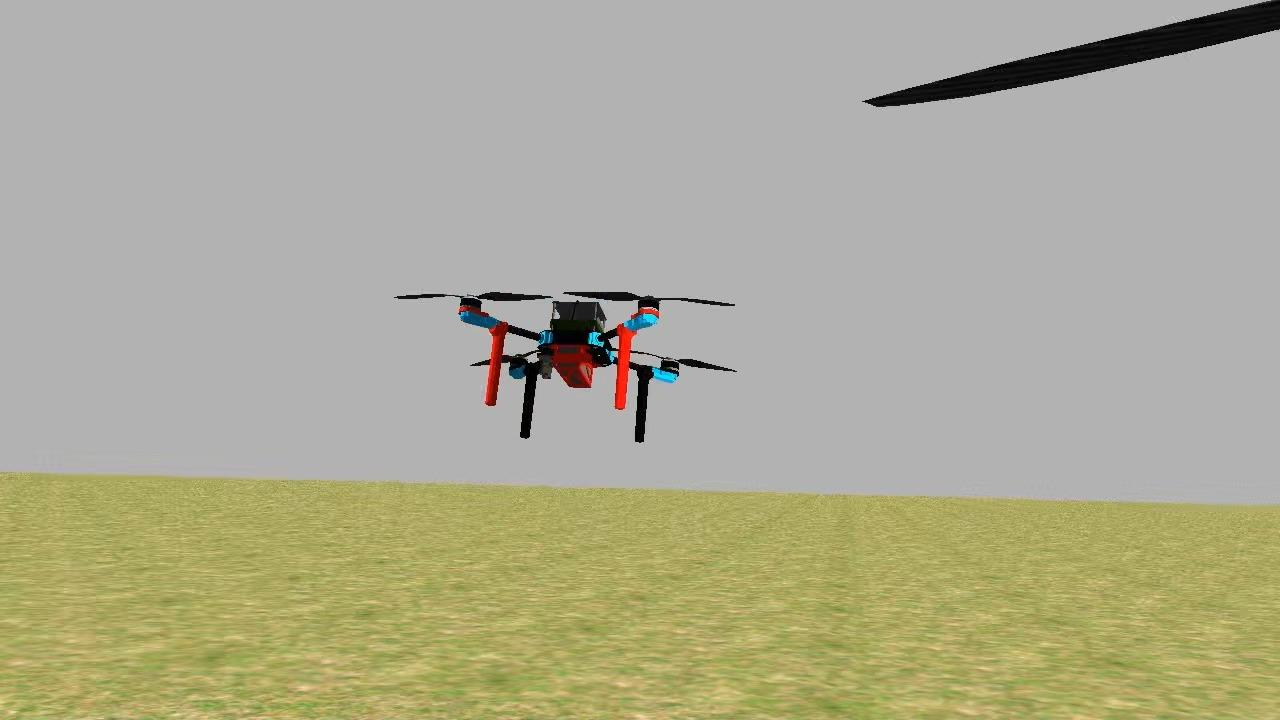UAV: (395, 276, 741, 448)
